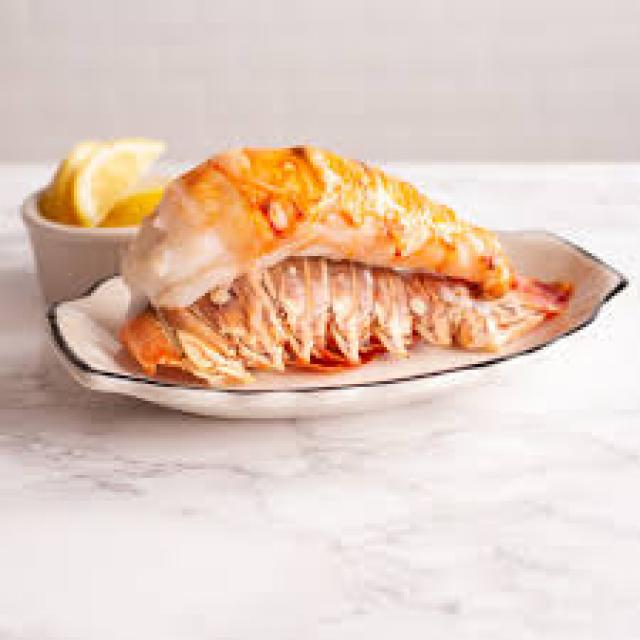lemon: (69, 136, 170, 223)
lobster tail: (202, 148, 510, 284)
